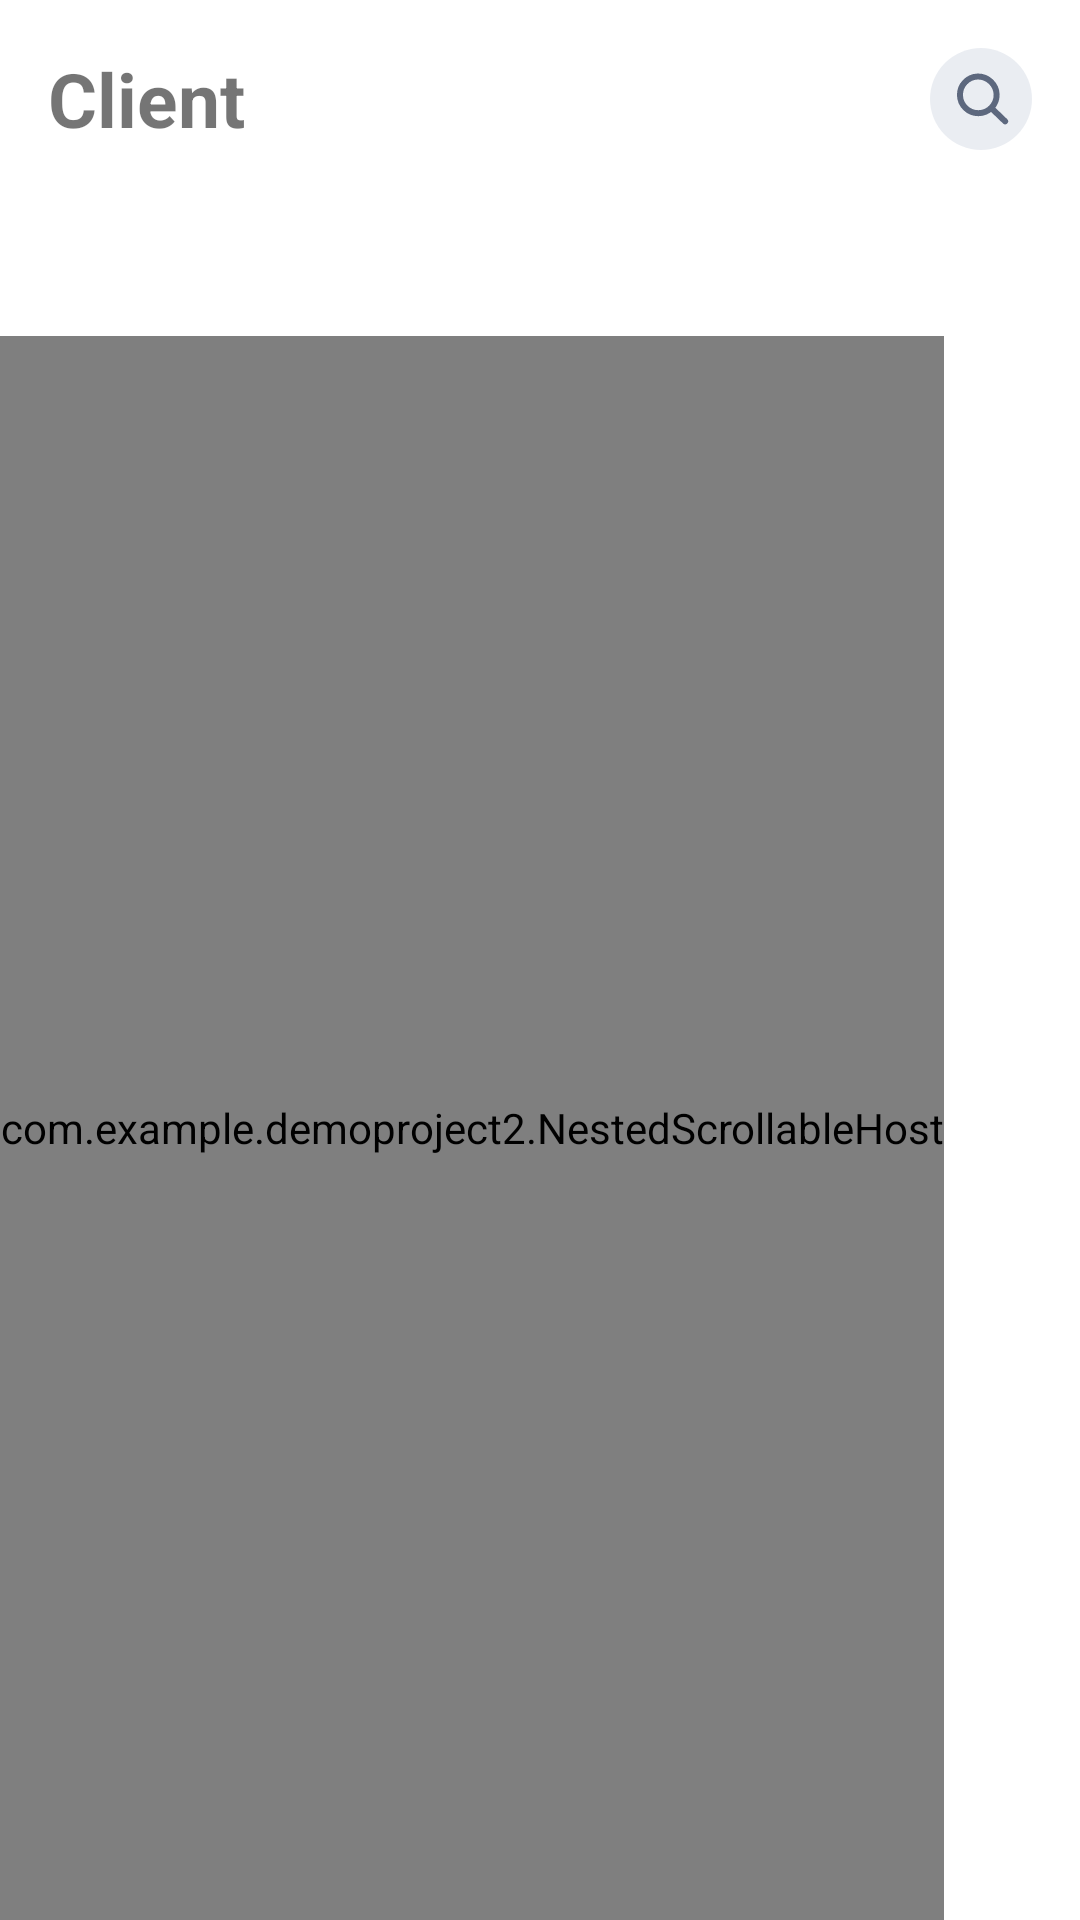

Point at icon controls on the screen. Image size 1080w x 1920h, points as (x,y).
search: (981,99)
